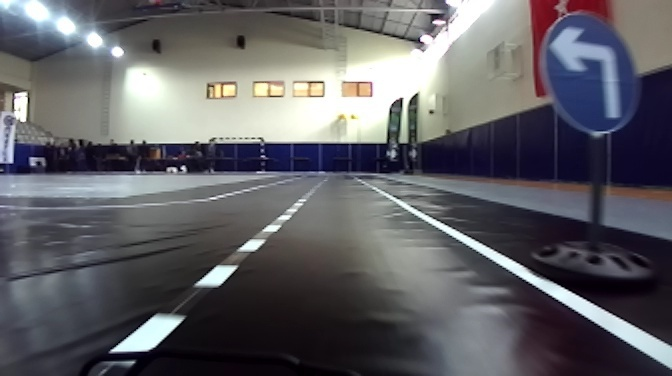sola_donus: (533, 7, 644, 133)
